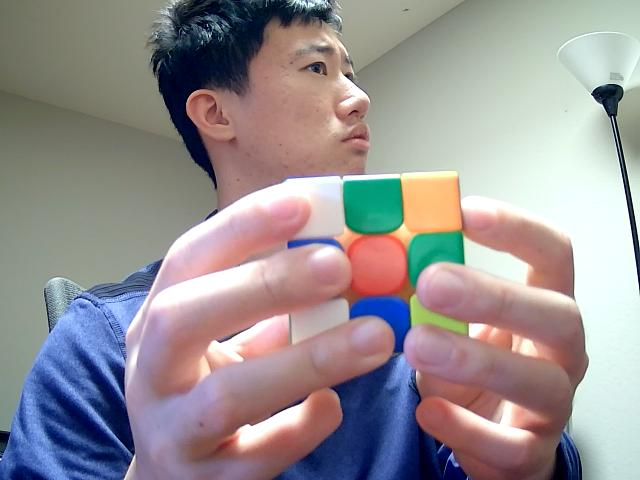Rubiks-Cube: (274, 168, 475, 355)
